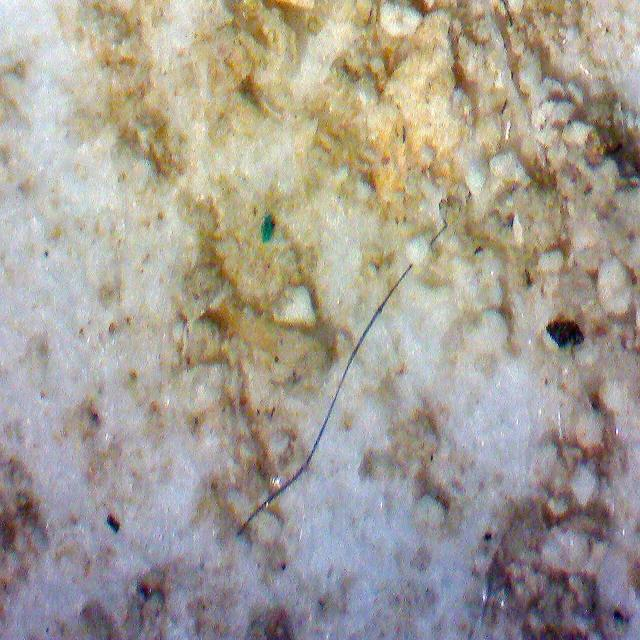microplastic: (236, 264, 413, 536), (261, 212, 275, 242)
